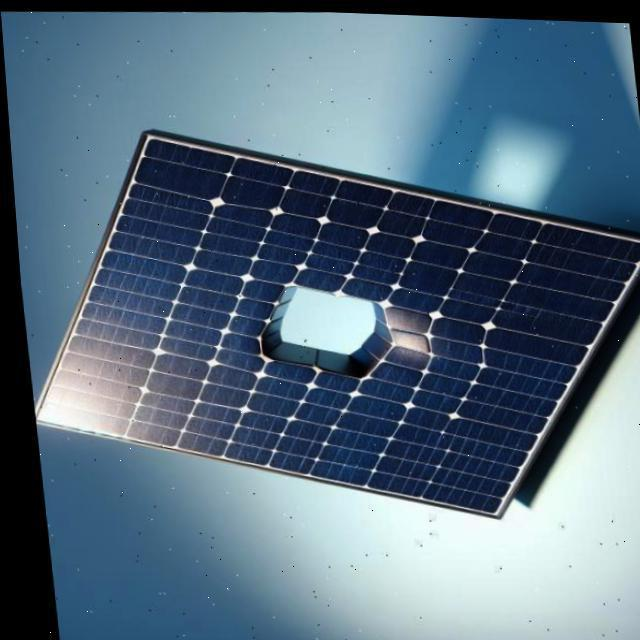Anomaly Solar Panel: (26, 120, 640, 541)
Structural Damage: (248, 277, 390, 385)
